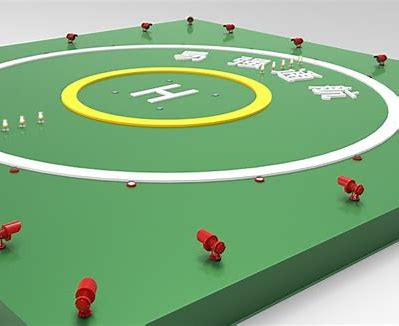H: (128, 82, 199, 103)
